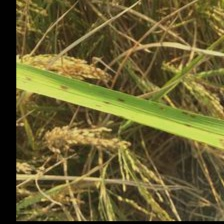Bacterial_Leaf_Blight: (178, 109, 200, 130), (20, 74, 33, 85), (214, 138, 224, 151), (58, 83, 73, 90), (117, 96, 128, 103)
